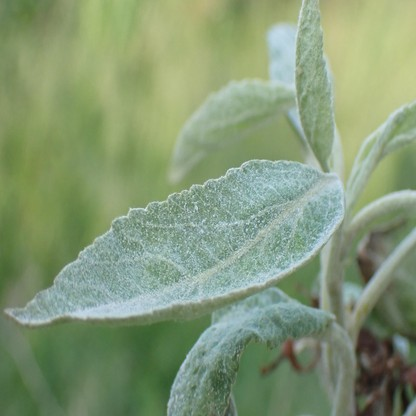powder: (3, 159, 347, 326), (166, 287, 338, 416), (296, 0, 336, 170)
